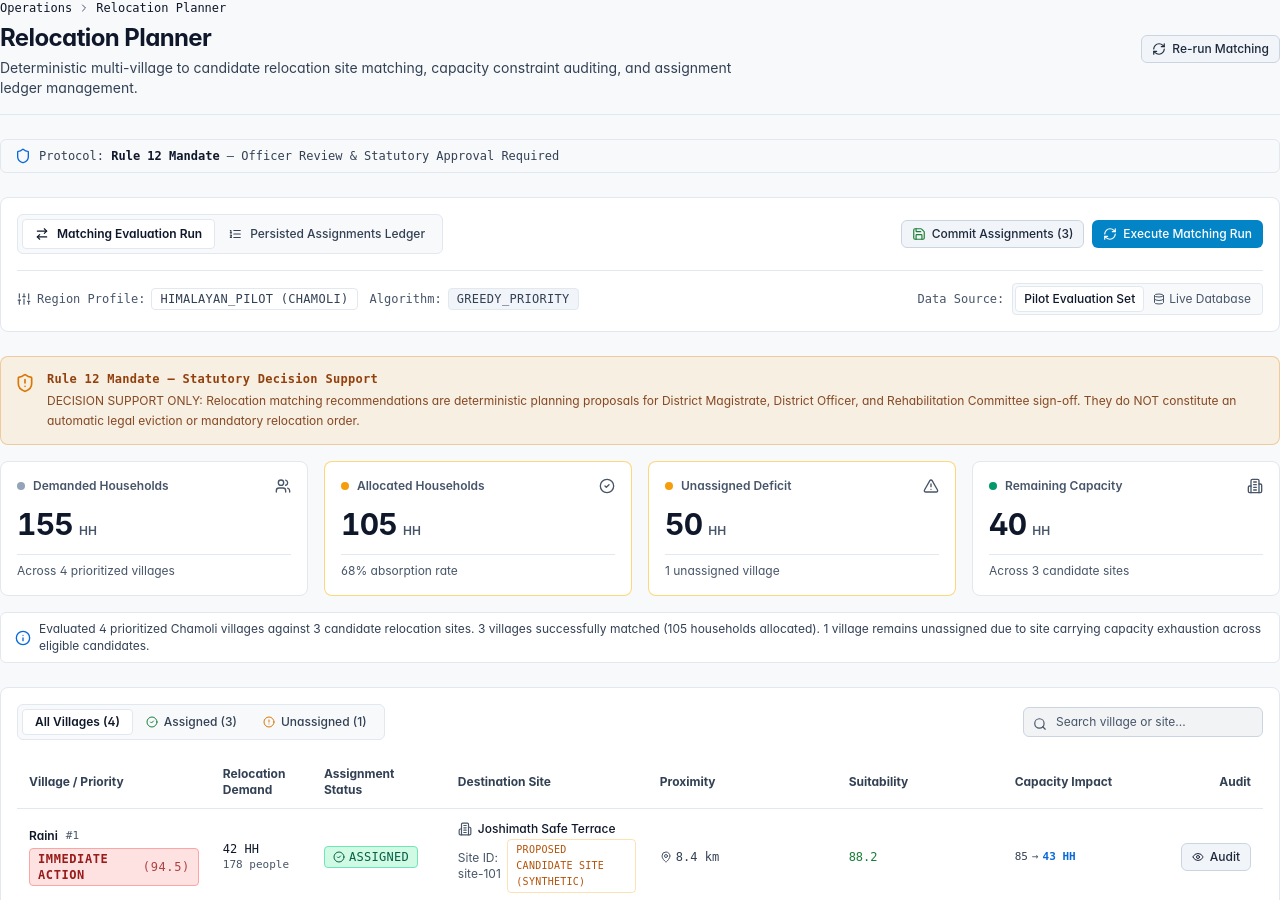
Test: Relocation Planner Workflow UI Suite (Chunk M6-02) › Village Assignment Table & Filtering › filters villages by status tabs (All, Assigned, Unassigned)
The image size is (1280, 900).
Click Unassigned tab
Click the tab "Unassigned (1)" at (315, 722), box top-left (250, 709), bottom-right (380, 735)
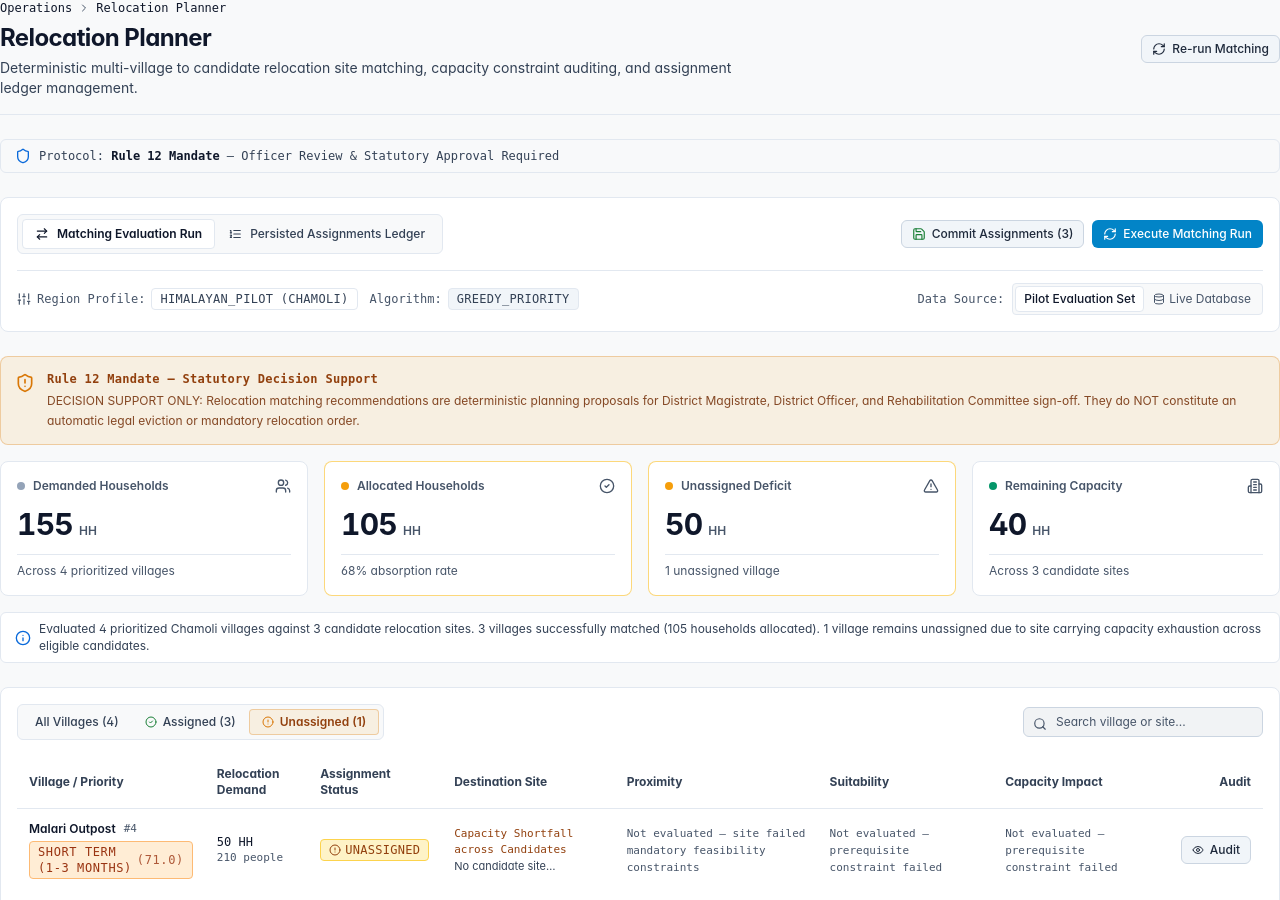
Expected: the text "Malari Outpost" is shown, top-left (29, 821), bottom-right (116, 837)
Now the text "Raini" is gone
Click Assigned tab
Click the tab "Assigned (3)" at (190, 722), box top-left (132, 709), bottom-right (249, 735)
(page scrolled)
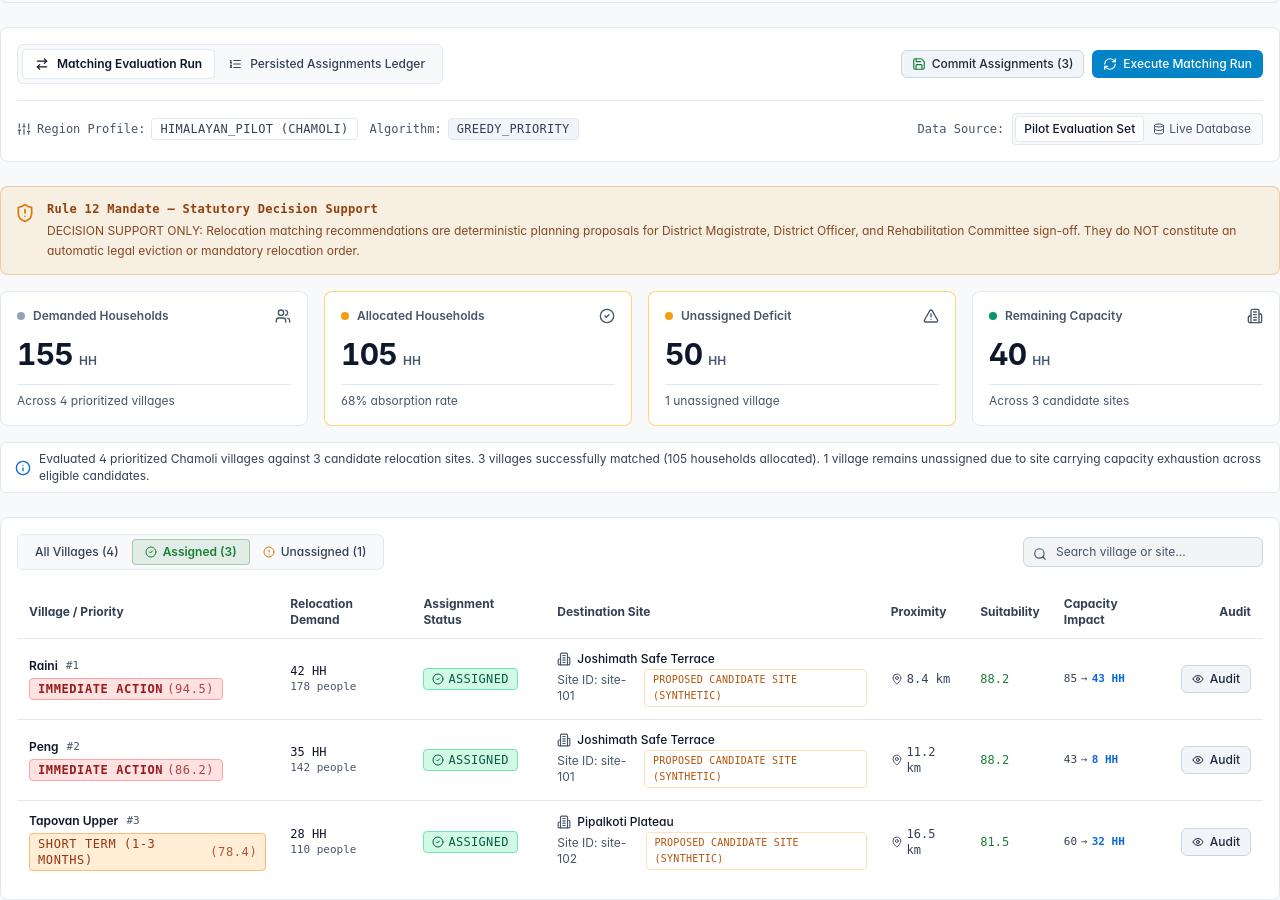
Now the text "Raini" is shown, box top-left (29, 658), bottom-right (58, 674)
Now the text "Peng" is shown, box top-left (29, 739), bottom-right (59, 755)
Now the text "Malari Outpost" is gone
